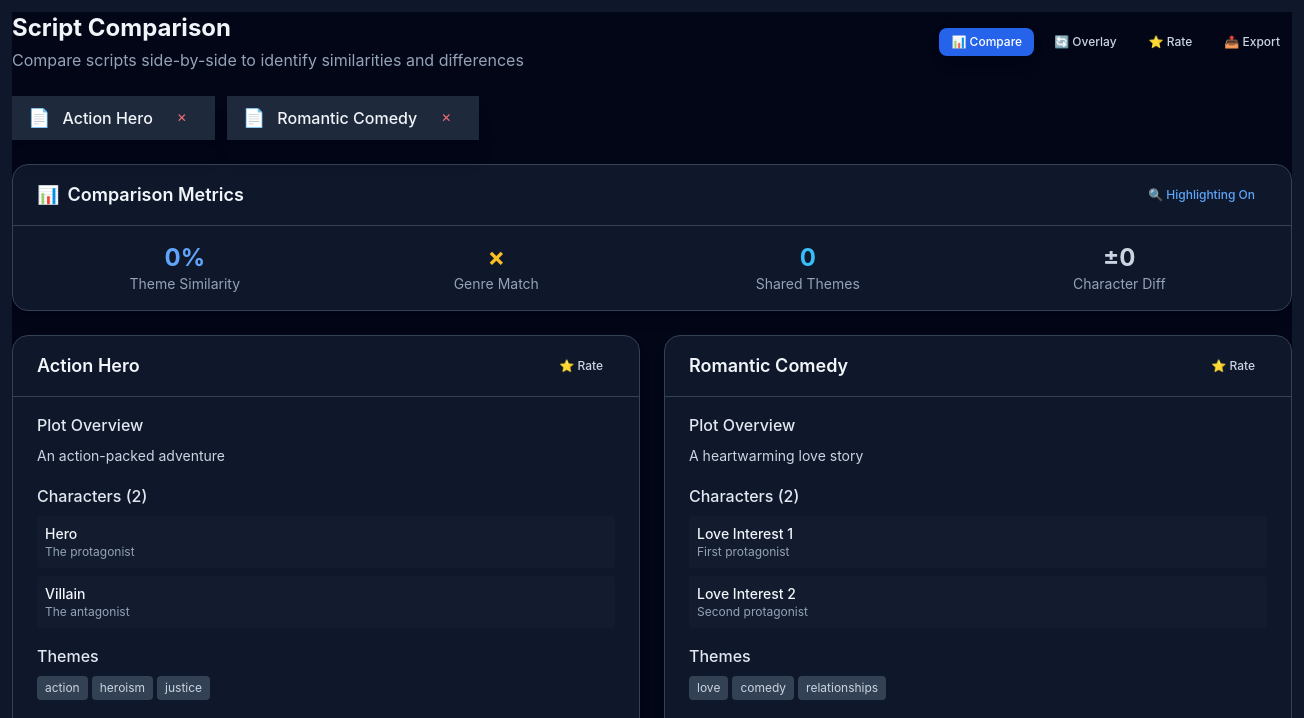
Test case: ScriptComparison › toggles highlighting differences
The width and height of the screenshot is (1304, 718).
Click the button "🔍 Highlighting On" at (1202, 195), box [1136,181,1267,209]
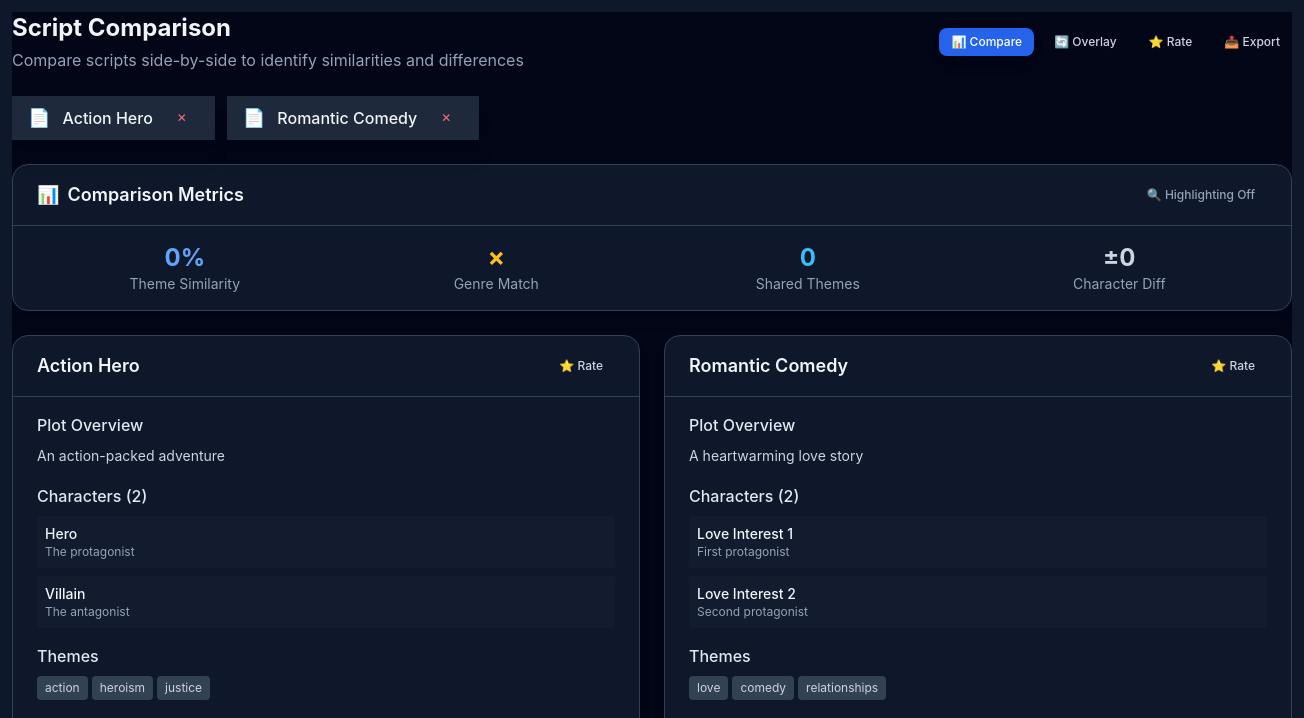
Expected: the button "🔍 Highlighting Off" is shown, [1135,181,1267,209]
